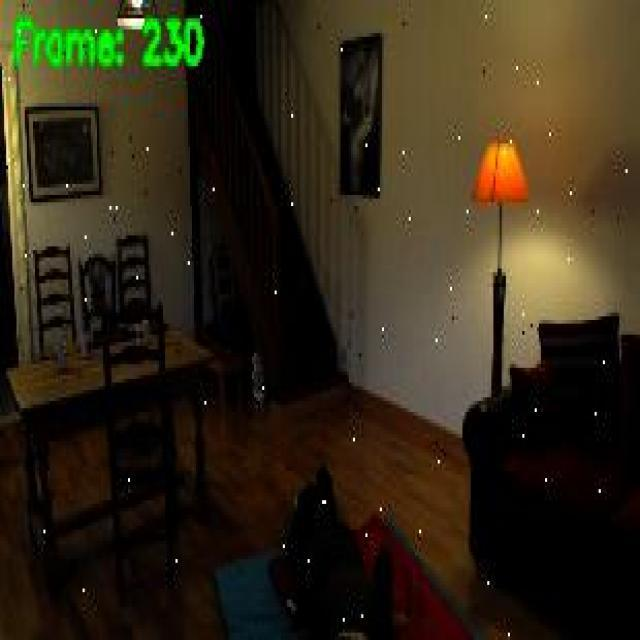fall: (282, 460, 402, 636)
